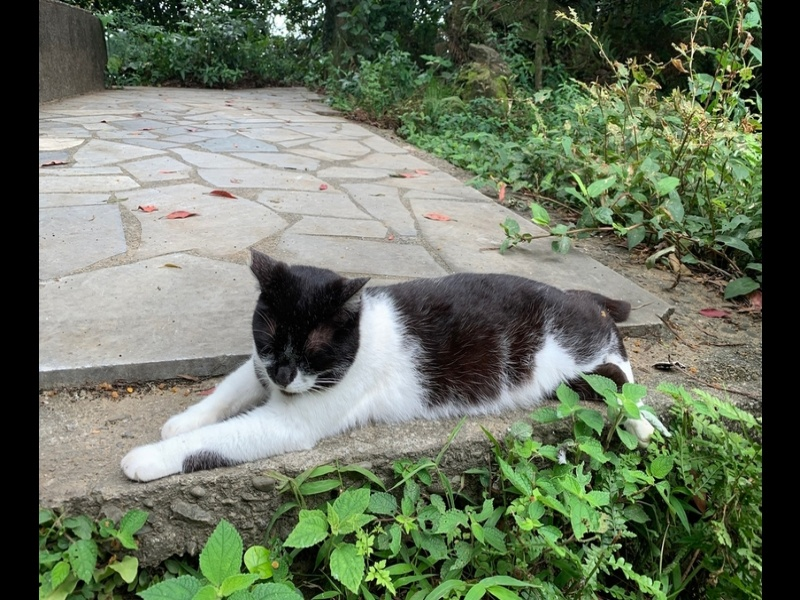cat: (113, 242, 673, 484)
